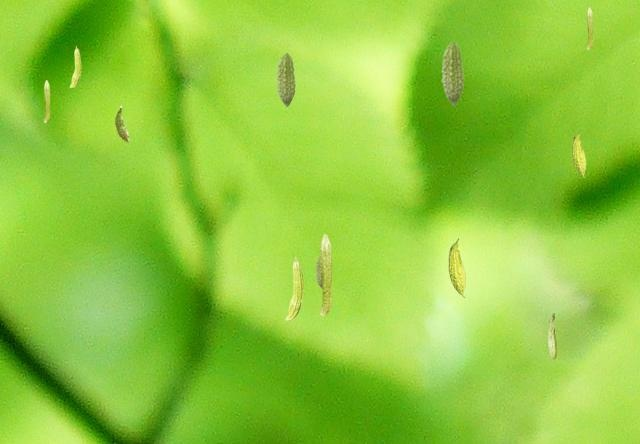ampalaya: (441, 41, 464, 106), (285, 255, 304, 321), (276, 52, 296, 107), (448, 237, 466, 298), (319, 233, 332, 317), (571, 129, 586, 178), (114, 105, 130, 142), (69, 45, 82, 88), (547, 311, 557, 360), (43, 80, 50, 123), (586, 7, 593, 50), (315, 257, 321, 288)
